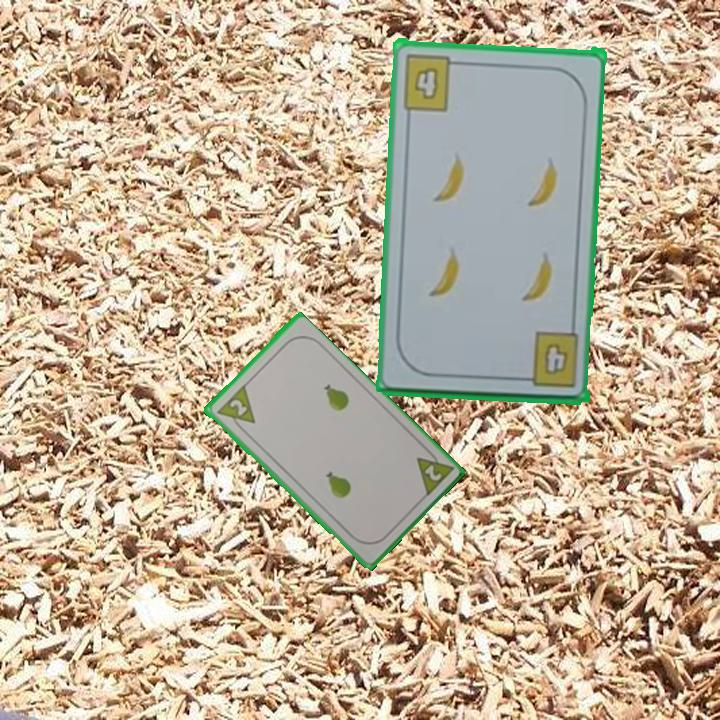2p: (412, 443, 455, 500), (225, 395, 250, 419)
4b: (398, 50, 465, 113), (516, 328, 581, 391)
